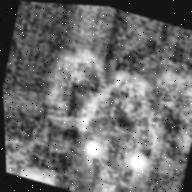boar: (34, 41, 192, 192)
